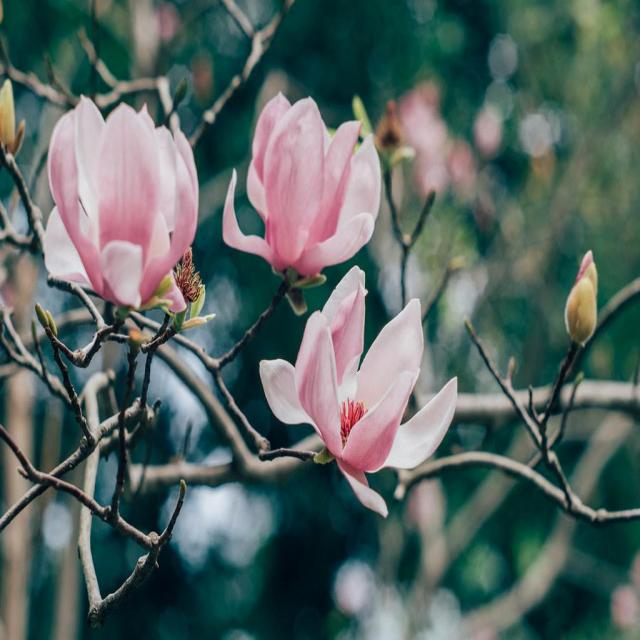organic waste: (262, 264, 462, 514), (36, 79, 196, 350), (230, 80, 391, 282)
